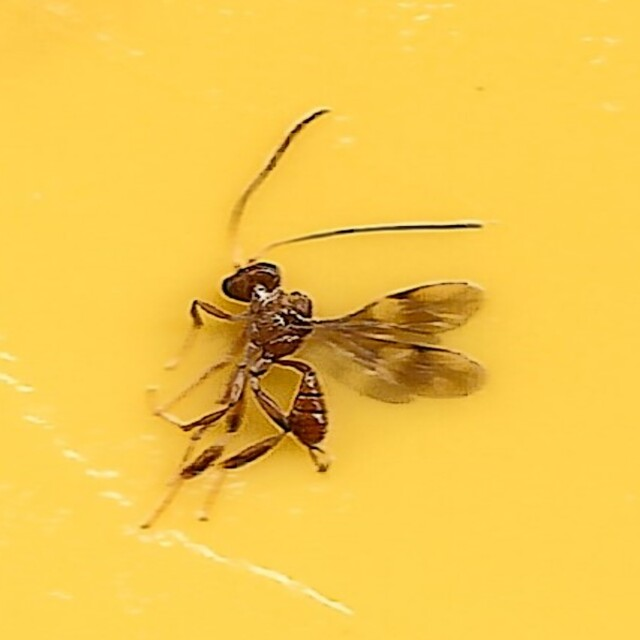Hymenoptera: (150, 107, 490, 533)
